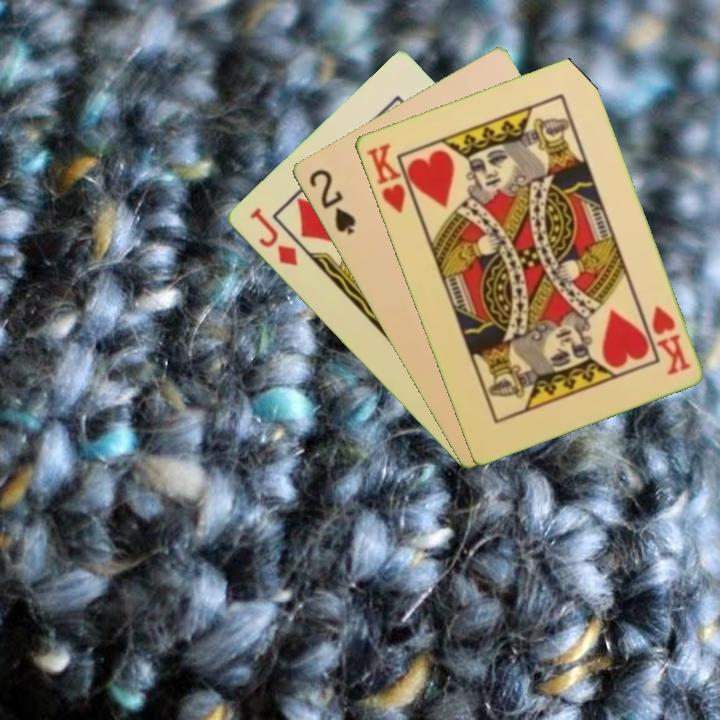2s: (304, 165, 359, 238)
Jd: (245, 204, 300, 269)
Kh: (363, 140, 419, 217), (647, 301, 693, 378)
